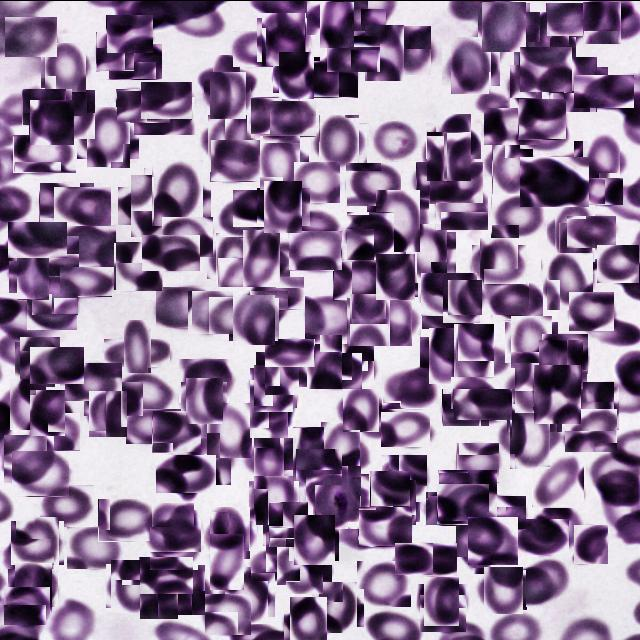red blood cell: (148, 163, 207, 222), (520, 156, 589, 206), (447, 330, 502, 386), (518, 14, 572, 70), (438, 469, 497, 520), (371, 192, 425, 246), (532, 454, 586, 507), (503, 409, 556, 462), (531, 366, 584, 419), (330, 8, 386, 57), (99, 36, 162, 79), (544, 255, 596, 307), (82, 110, 134, 162), (11, 450, 69, 496), (120, 372, 177, 418), (401, 227, 452, 277), (305, 295, 364, 338), (491, 193, 547, 238), (550, 207, 600, 257), (124, 180, 174, 230), (446, 40, 496, 90), (488, 139, 538, 189), (222, 569, 272, 619), (204, 404, 254, 454), (3, 434, 54, 483), (98, 498, 156, 541), (357, 560, 411, 606), (346, 162, 402, 206), (519, 46, 572, 92), (179, 358, 234, 402), (421, 272, 477, 315), (148, 506, 198, 554), (468, 516, 518, 564), (13, 134, 76, 172), (333, 258, 390, 300), (435, 185, 488, 230), (67, 526, 123, 568), (256, 140, 305, 188), (60, 224, 116, 266), (316, 426, 365, 474), (245, 383, 293, 432), (260, 14, 308, 63), (346, 211, 394, 260), (564, 408, 617, 452), (134, 96, 195, 134), (316, 118, 364, 166), (204, 118, 252, 166), (568, 384, 616, 432), (14, 518, 62, 566), (108, 561, 156, 609), (424, 331, 472, 379), (114, 242, 162, 290), (344, 295, 392, 343), (360, 28, 408, 76), (479, 1, 528, 48), (156, 286, 212, 327), (382, 367, 438, 408), (156, 454, 216, 492), (40, 484, 94, 526), (429, 161, 483, 203), (238, 233, 286, 280), (54, 186, 111, 225), (26, 235, 80, 276), (508, 318, 555, 365), (537, 340, 584, 387), (114, 328, 160, 376), (381, 454, 427, 502), (426, 132, 472, 180), (39, 182, 94, 222), (507, 392, 562, 432), (65, 362, 122, 400), (207, 510, 254, 556), (453, 524, 500, 570), (288, 230, 342, 270), (358, 506, 412, 546), (300, 60, 358, 97), (484, 107, 542, 144), (233, 290, 288, 329), (8, 221, 67, 257), (476, 240, 522, 286), (578, 136, 624, 182), (18, 338, 64, 384), (212, 236, 258, 282), (50, 91, 96, 137), (186, 437, 232, 483), (282, 542, 328, 588), (291, 516, 337, 562), (231, 296, 277, 342), (250, 96, 300, 138), (27, 287, 77, 329), (210, 139, 260, 181), (142, 234, 200, 270), (369, 120, 421, 160), (220, 196, 272, 236), (5, 16, 57, 56), (437, 483, 489, 523), (484, 268, 529, 314), (150, 526, 198, 569), (152, 410, 201, 452), (139, 556, 193, 594), (162, 216, 213, 256), (233, 189, 288, 226), (558, 61, 603, 106), (302, 339, 347, 384), (316, 584, 360, 630), (42, 44, 88, 88), (187, 290, 233, 334), (260, 184, 306, 228), (490, 282, 543, 320), (84, 381, 143, 415), (506, 566, 556, 606), (326, 35, 380, 72), (30, 346, 84, 383), (431, 118, 476, 162), (233, 30, 288, 66), (266, 503, 310, 548), (5, 382, 50, 426), (574, 74, 634, 107), (28, 412, 80, 450), (140, 81, 192, 119), (204, 593, 251, 635), (313, 0, 361, 41), (518, 98, 566, 139), (126, 408, 182, 443), (252, 478, 296, 522), (164, 567, 208, 611), (268, 529, 312, 573), (11, 565, 55, 609), (138, 571, 182, 615), (482, 567, 526, 611), (30, 100, 74, 144), (3, 538, 51, 578), (210, 533, 244, 589), (205, 60, 248, 104), (508, 64, 551, 108), (252, 365, 295, 409), (453, 388, 512, 420), (294, 161, 340, 202), (422, 292, 474, 328), (22, 88, 72, 125), (260, 347, 303, 390), (392, 28, 434, 72), (542, 333, 588, 373), (518, 518, 569, 554), (3, 586, 50, 625), (106, 14, 153, 53), (509, 366, 552, 408), (374, 255, 416, 298), (287, 432, 330, 474), (419, 594, 466, 632), (442, 388, 489, 426), (250, 276, 304, 309), (116, 88, 170, 121), (374, 298, 416, 340), (88, 392, 130, 434), (442, 280, 484, 322), (376, 481, 418, 523), (421, 580, 463, 622), (183, 379, 225, 421), (287, 599, 330, 640), (569, 291, 614, 330), (382, 411, 432, 446), (404, 542, 457, 575), (32, 276, 78, 314), (248, 438, 290, 479), (206, 74, 248, 115), (276, 53, 317, 95), (581, 0, 622, 42), (456, 442, 499, 482), (476, 494, 526, 528), (269, 100, 316, 136), (315, 352, 362, 388), (26, 392, 68, 432), (292, 210, 341, 244), (251, 546, 300, 580), (296, 448, 342, 484), (520, 115, 570, 148), (566, 215, 616, 248), (336, 344, 376, 384), (341, 390, 381, 430), (14, 256, 54, 296), (546, 2, 593, 36), (416, 161, 458, 199), (340, 510, 382, 548), (597, 244, 639, 282), (59, 266, 112, 296), (451, 376, 499, 408), (425, 491, 470, 525), (9, 552, 54, 586), (96, 30, 134, 70), (570, 177, 623, 205), (357, 402, 400, 436), (370, 470, 410, 506), (573, 524, 608, 564), (266, 338, 316, 366), (395, 542, 433, 574)
trophozoite: (310, 469, 365, 524)
